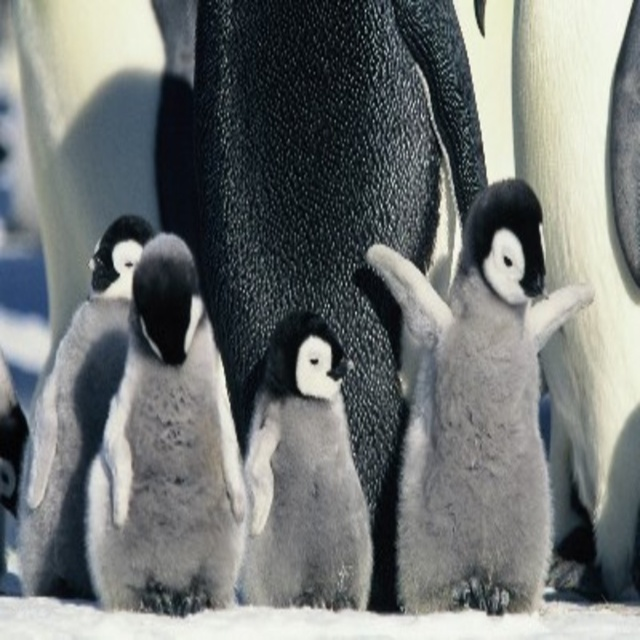Penguin: (0, 0, 640, 617)
